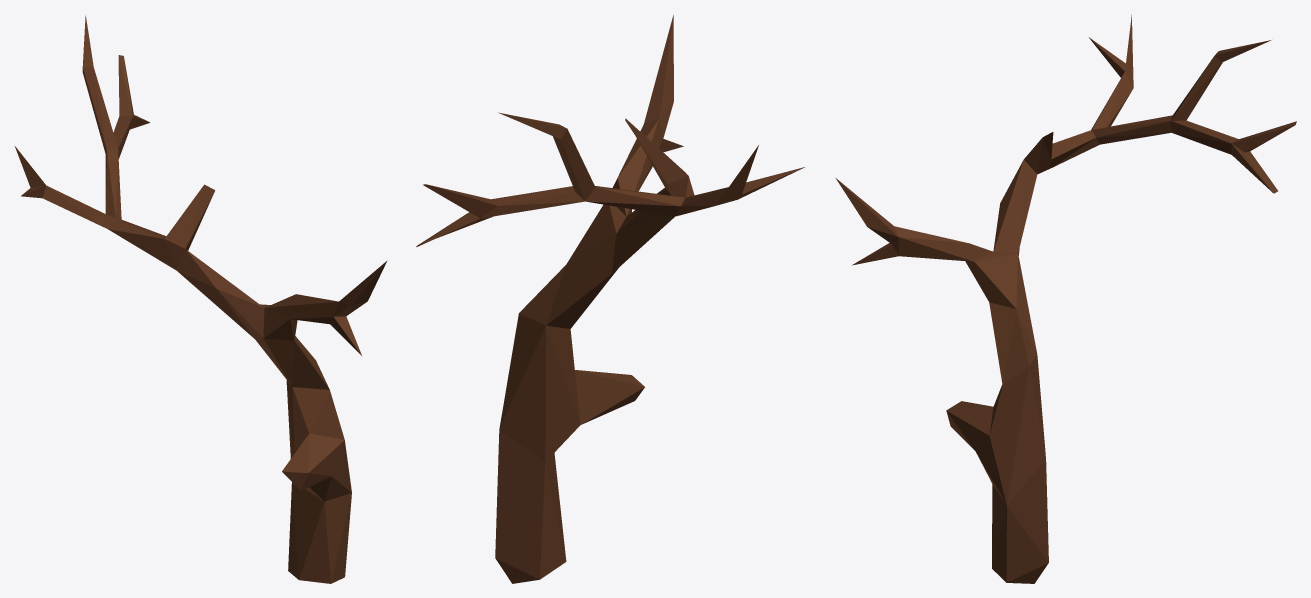
Rendered from TwigTree3.fbx.
3 renders of one model, left to right at view 1: azimuth 30°, elevation 25°; view 2: azimuth 150°, elevation 25°; view 3: azimuth 270°, elevation 25°, orthographic. The views are drawn at different scales.
Visible parts, largest first — view 1: TwigTree3; view 2: TwigTree3; view 3: TwigTree3.
Part boxes in pixels (box(x1,y1,x2,y2)): TwigTree3: box(15, 15, 387, 583); TwigTree3: box(416, 15, 804, 583); TwigTree3: box(835, 14, 1296, 583).
Bounding box in the file's own units: 114 × 189 × 161.
